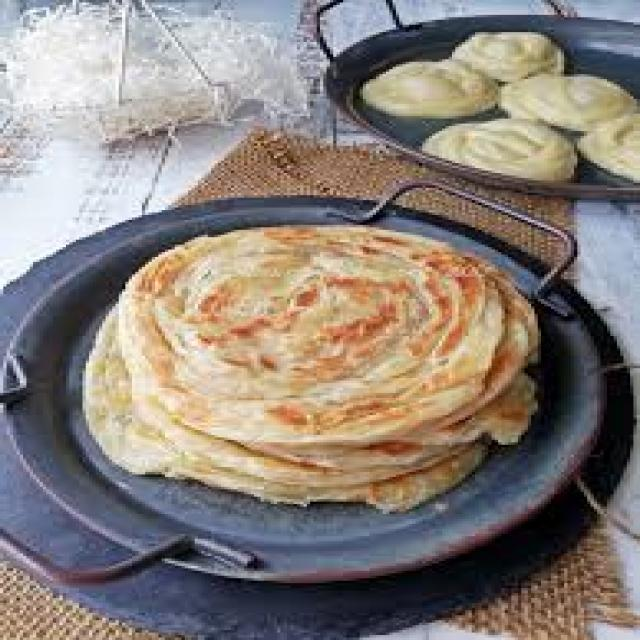Paratha: (72, 231, 540, 513)
